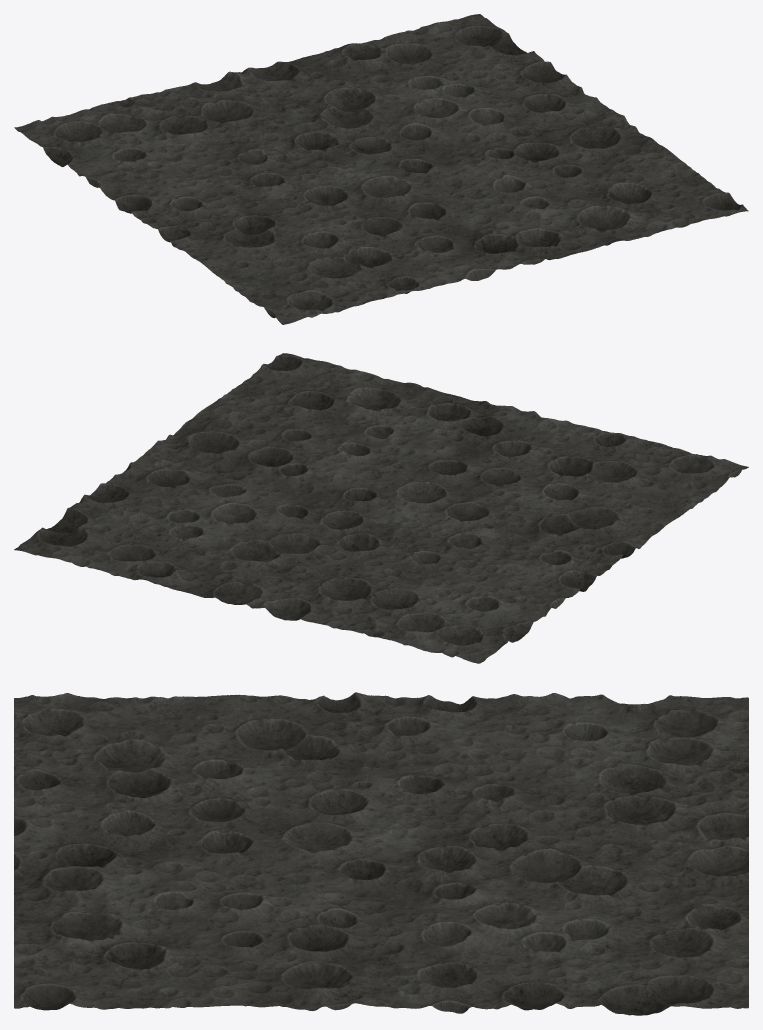
The model's file is moon_terrain.glb.
3 views of the same model, one above another, from view 1: azimuth 30°, elevation 25°; view 2: azimuth 150°, elevation 25°; view 3: azimuth 270°, elevation 25° (orthographic). The views are drawn at different scales.
Parts seen in each view (by area): view 1: Plane_0; view 2: Plane_0; view 3: Plane_0.
Boxes of the visible parts, bbox=[...] form: Plane_0: bbox=[14, 14, 748, 324]; Plane_0: bbox=[14, 353, 748, 663]; Plane_0: bbox=[14, 692, 748, 1015].
Bounding box in the file's own units: 19.97 × 0.5642 × 19.97.
Materials: 1 (1 with a texture image).
